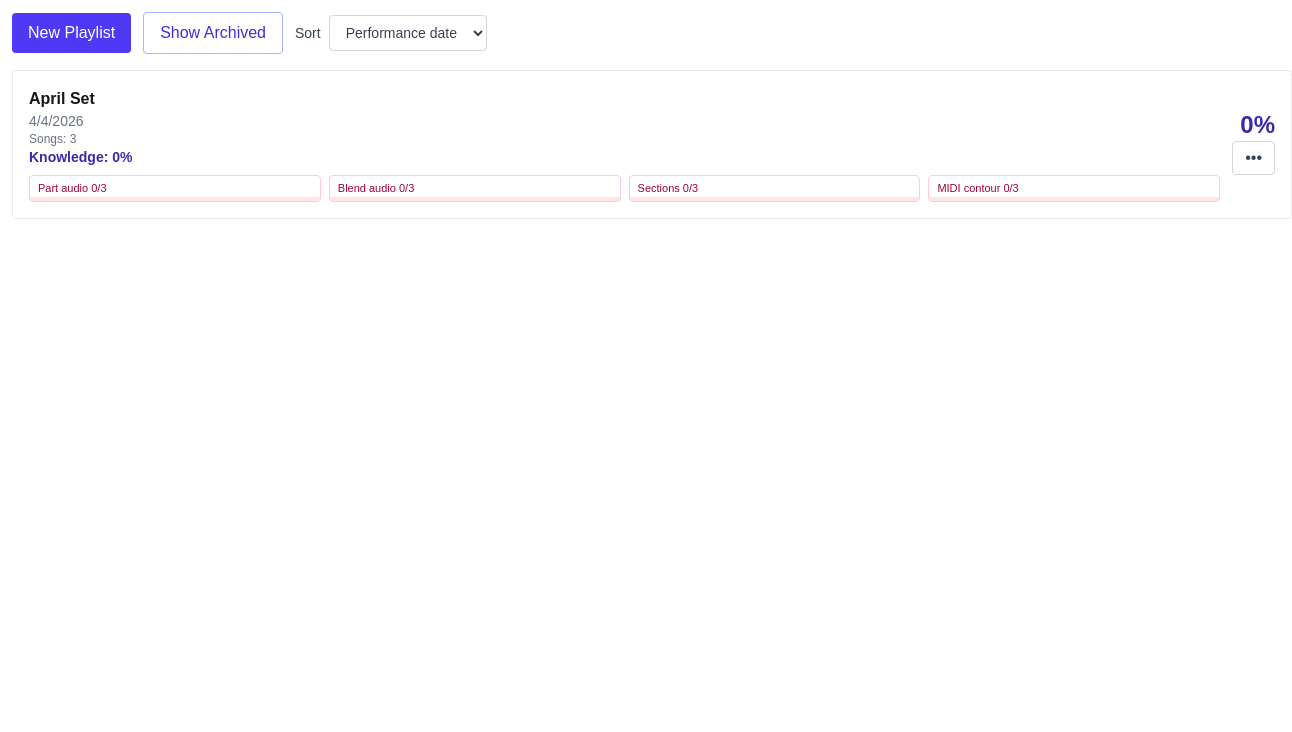
PlaylistBrowser › filters archived playlists by event year
The width and height of the screenshot is (1292, 732).
Expected: the element with test id "playlist-row-pl-1" is shown, [12,70,1291,218]
Step 1. Click the button with test id "toggle-archived-button" → (213, 33), box [143,12,283,54]
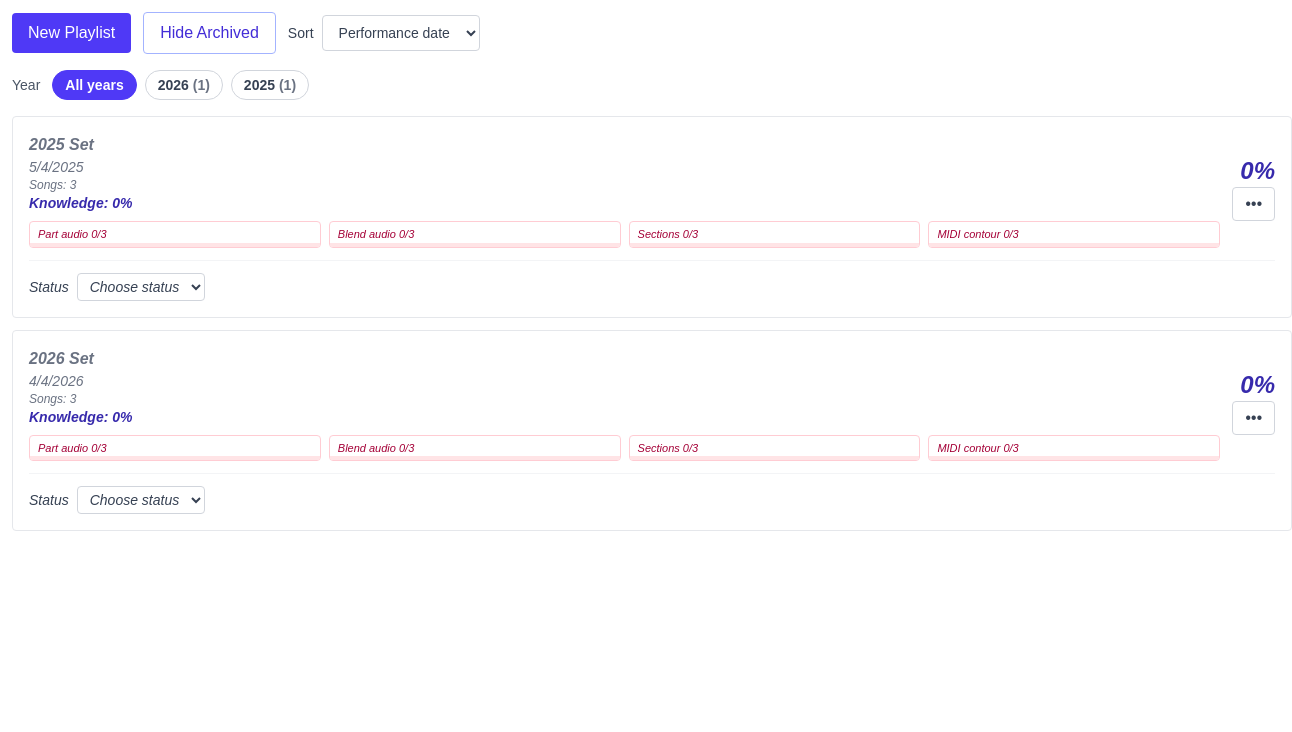
Now the element with test id "archived-year-filters" is shown, box [12,70,309,100]
Now the button with test id "archived-year-2026" reads "2026 (1)", box [145,70,223,100]
Now the button with test id "archived-year-2025" reads "2025 (1)"
Step 2. Click the button with test id "archived-year-2025" → (270, 85), box [231,70,309,100]
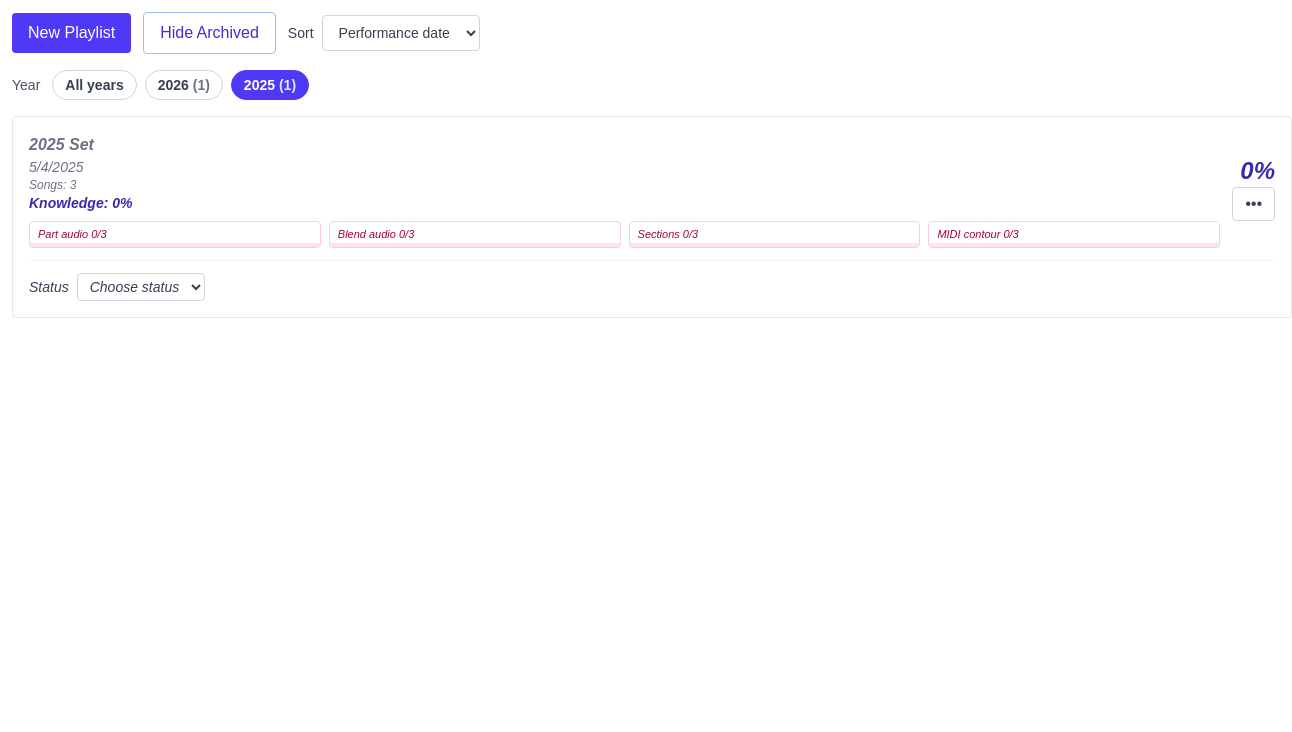
Now the element with test id "playlist-row-pl-2025" is shown, box [12,116,1291,318]
Now the element with test id "playlist-row-pl-2026" is gone
